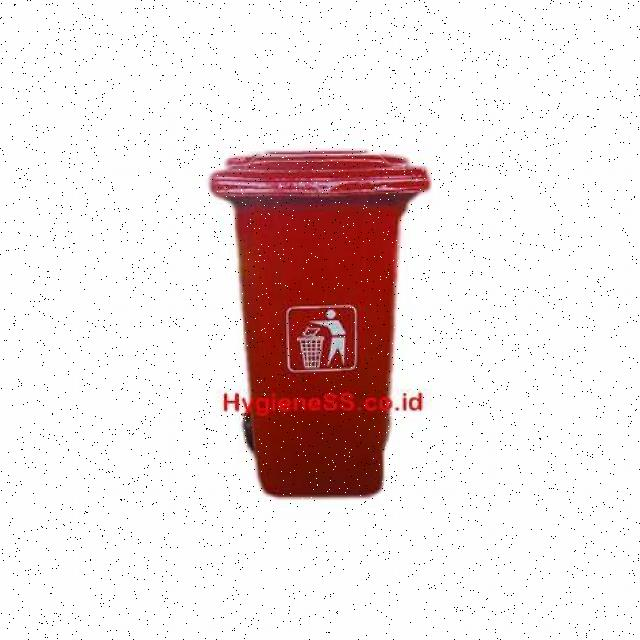garbage container: (197, 121, 503, 582)
